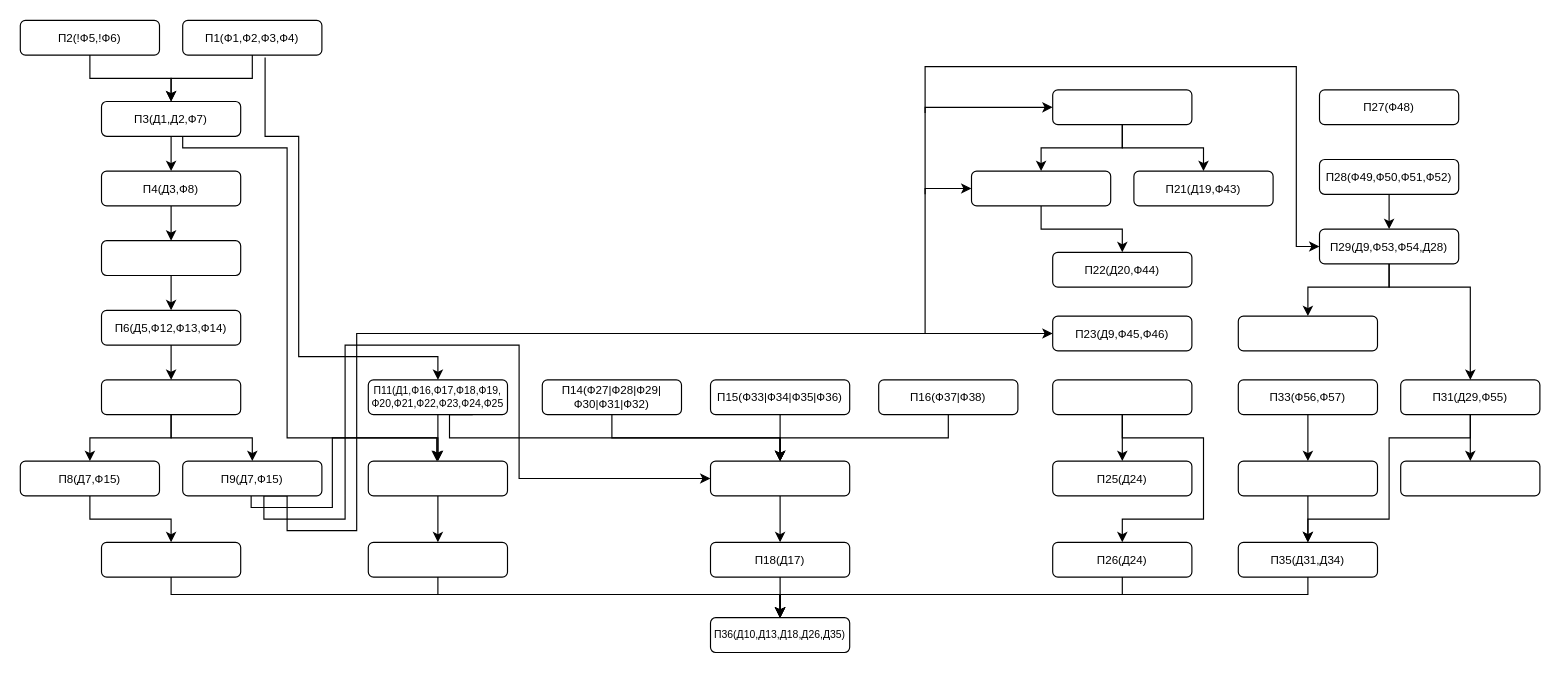
Some shapes in this 1560 by 673 pixel diagram are drawn without their labels. The centre of each missing label's shape, as x and y in pixels:
"П10(Д8)" belongs at (x=170, y=559).
"П12((Д3|Д9),Д11,Ф26)" belongs at (x=437, y=478).
"П13(Д12)" belongs at (x=437, y=559).
"П17(Д9,Ф39,(Д14|(Д15,Д16)),Д11)" belongs at (x=779, y=478).
"П19(Д9,Ф40)" belongs at (x=1122, y=107).
"П20((Д9,Ф41)|(Д19,Ф42))" belongs at (x=1040, y=188).
"П24(Д9,Ф45,Ф47)" belongs at (x=1122, y=397).
"П30(Д29,!Ф55)" belongs at (x=1307, y=333).
"П32(Д31)" belongs at (x=1470, y=478).
"П34(Д33,Ф58,Ф59)" belongs at (x=1307, y=478).
"П5(Д4,Ф9,Ф10,Ф11)" belongs at (x=170, y=258).
"П7(Д6)" belongs at (x=170, y=397).
